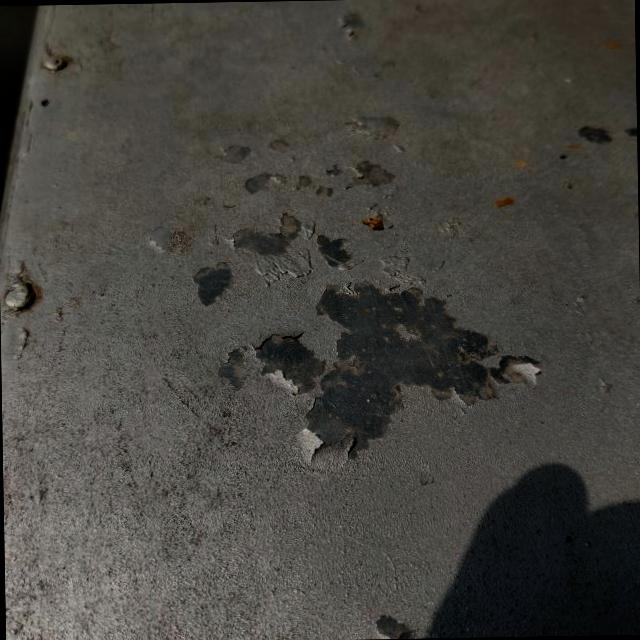paint-off: (152, 137, 562, 490)
